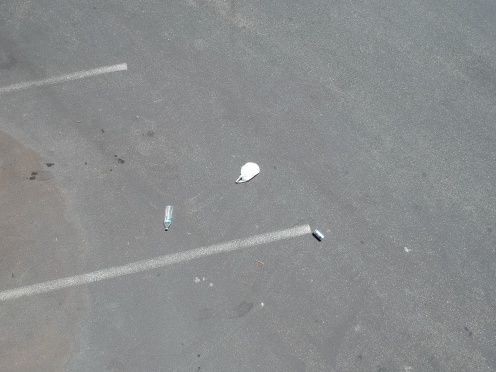bottle: (157, 201, 177, 232)
can: (312, 226, 328, 243)
plastic bag: (231, 157, 264, 187)
